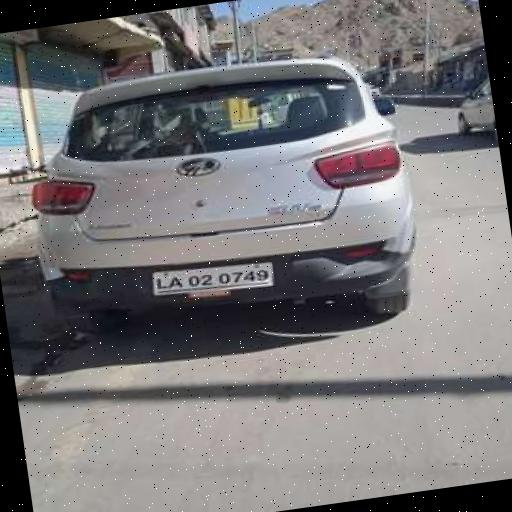license_plate`: (148, 255, 273, 300)
